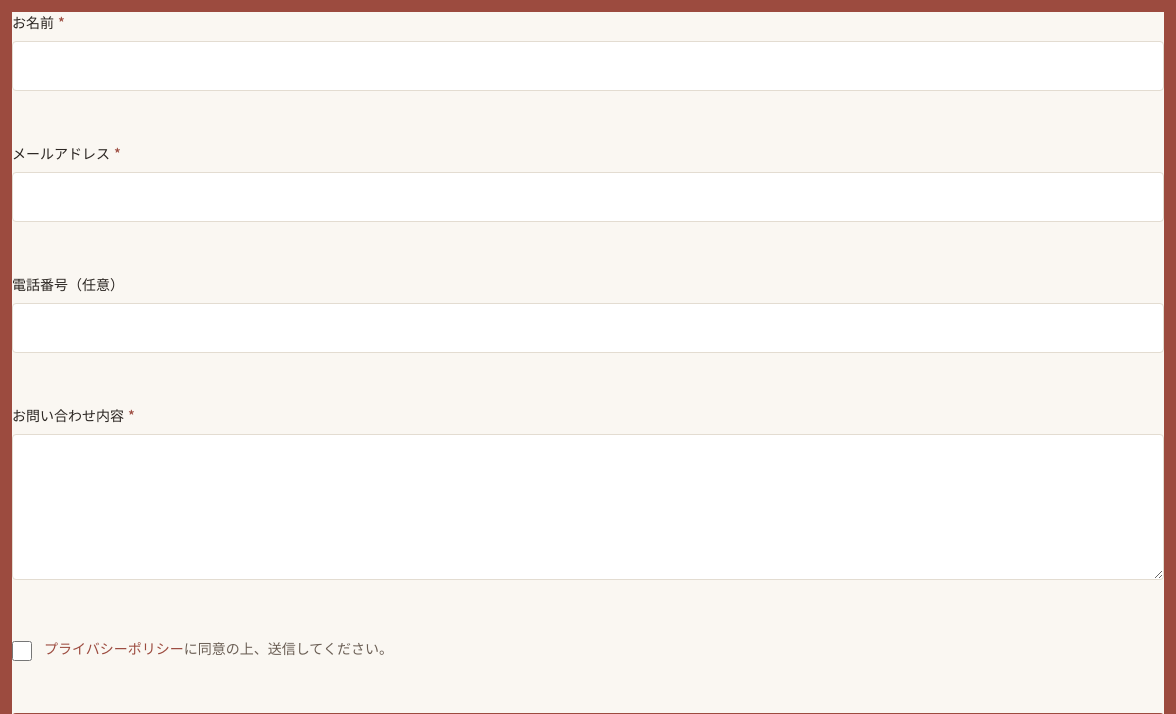
Test: ContactForm › rejects an invalid email format
Type "not-an-email" into the field labelled "メールアドレス". click: (588, 197)
box: x1=12 y1=172 x2=1164 y2=222
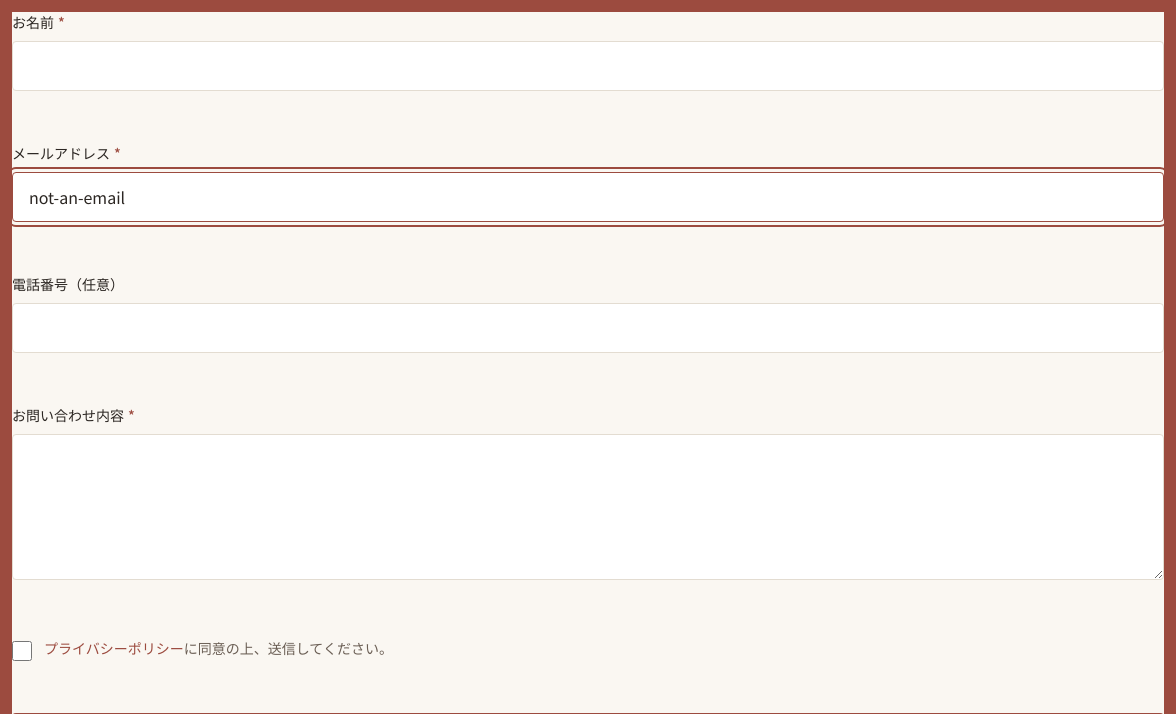
Press Tab
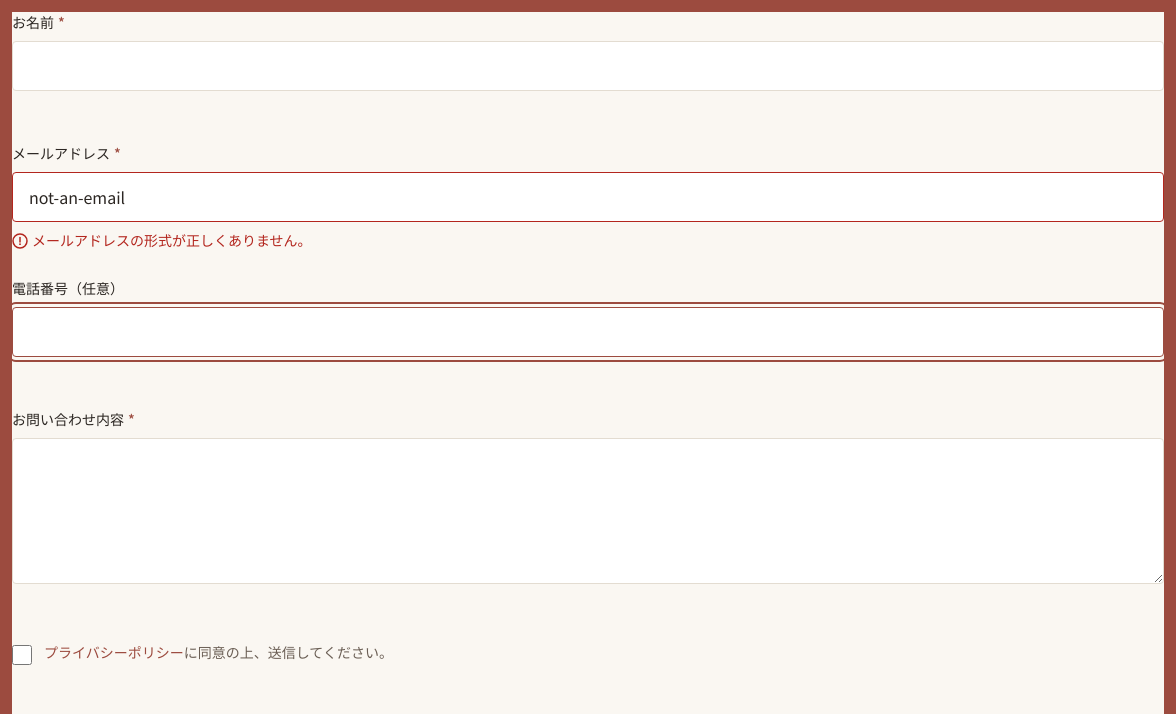
Expected: the text "メールアドレスの形式が正しくありません。" is shown, x1=12 y1=230 x2=312 y2=251
